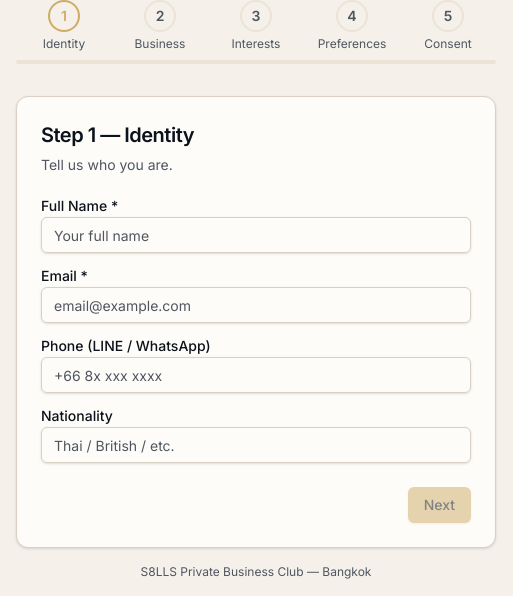
Test case: QRRegisterForm › Back button returns to previous step
The image size is (513, 596).
Type "Alice Smith" into the field with placeholder "Your full name" at [256, 235], box [41, 217, 471, 253]
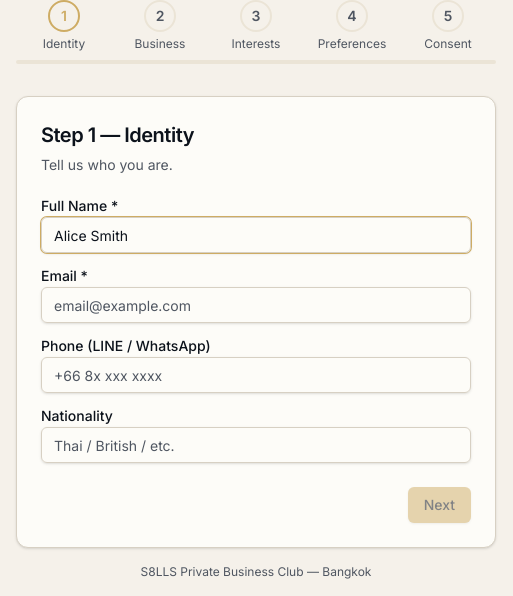
Type "alice@example.com" into the field with placeholder "email@example.com" at [256, 305], box [41, 287, 471, 323]
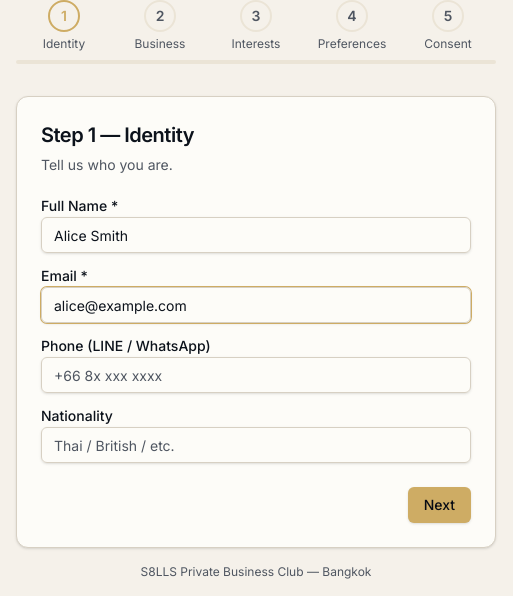
Click the button "Next" at [439, 505], box [408, 487, 471, 523]
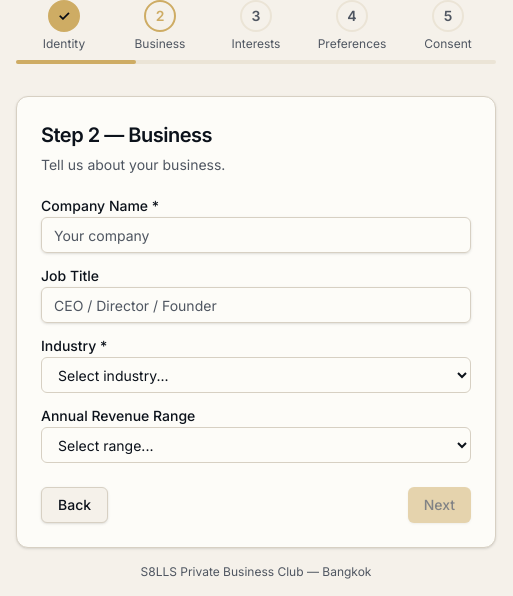
Check: the text "Step 2 — Business" is shown, box [41, 123, 212, 147]
Click the button "Back" at [75, 505], box [41, 487, 108, 523]
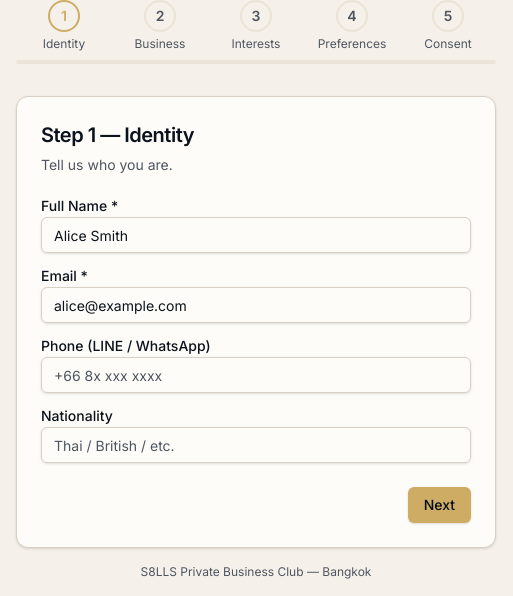
Check: the text "Step 1 — Identity" is shown, box [41, 123, 194, 147]
